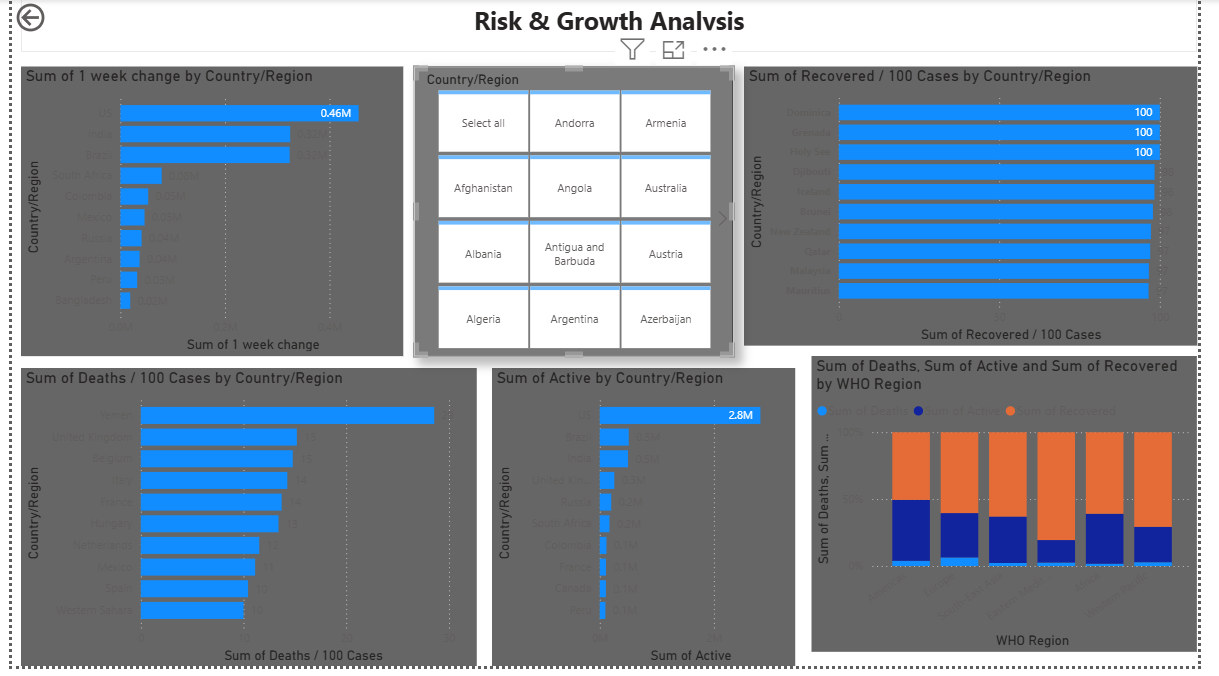

The page's visual inventory and layout, read from the dashboard file:
{"tool":"powerbi","page":{"name":"Risk & Growth Analysis","canvas":[1280,720],"ordinal":2},"visuals":[{"type":"textbox","box":[9.4,0,1269.9,56.7],"z":0},{"type":"clusteredBarChart","fields":{"Category":["covid19.Country/Region"],"Y":["Sum(covid19.1 week change)"]},"box":[9.7,72.9,412.9,312.5],"z":1000},{"type":"clusteredBarChart","fields":{"Category":["covid19.Country/Region"],"Y":["Sum(covid19.Deaths / 100 Cases)"]},"box":[9.7,398.3,492.2,322.2],"z":2000},{"type":"clusteredBarChart","fields":{"Category":["covid19.Country/Region"],"Y":["Sum(covid19.Recovered / 100 Cases)"]},"box":[790.2,72.9,489,301.2],"z":3000},{"type":"clusteredBarChart","fields":{"Category":["covid19.Country/Region"],"Y":["Sum(covid19.Active)"]},"box":[518.2,398.3,327.1,322.2],"z":4000},{"type":"hundredPercentStackedColumnChart","fields":{"Category":["covid19.WHO Region"],"Y":["Sum(covid19.Deaths)","Sum(covid19.Active)","Sum(covid19.Recovered)"]},"box":[863.6,385.5,415.8,319.4],"z":5000},{"type":"actionButton","box":[0,0,100,40],"z":6000},{"type":"slicer","fields":{"Values":["covid19.Country/Region"]},"box":[434,72.9,344.9,312.5],"z":6001}]}

Visuals, with their boxes in screenshot pixels (x1, y1, x2, y2), scaled from the page's 1280x720 canvas onto the 1219x676 screenshot:
textbox: 9/0/1218/53
clusteredBarChart - covid19.Country/Region x Sum(covid19.1 week change): 9/68/402/362
clusteredBarChart - covid19.Country/Region x Sum(covid19.Deaths / 100 Cases): 9/374/478/675
clusteredBarChart - covid19.Country/Region x Sum(covid19.Recovered / 100 Cases): 753/68/1218/351
clusteredBarChart - covid19.Country/Region x Sum(covid19.Active): 494/374/805/675
hundredPercentStackedColumnChart - covid19.WHO Region x Sum(covid19.Deaths): 822/362/1218/662
actionButton: 0/0/95/38
slicer - covid19.Country/Region: 413/68/742/362
